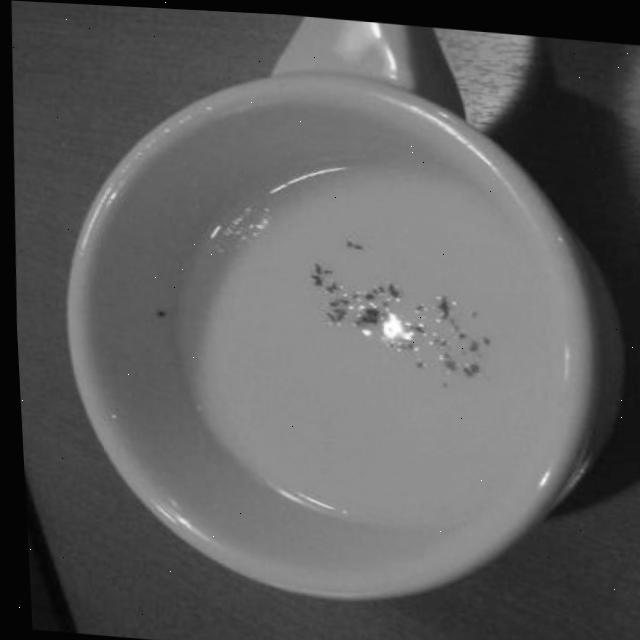汤锅炖物: (131, 109, 575, 551)
